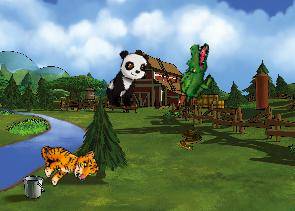crocodile: (173, 41, 218, 106)
panda: (102, 46, 151, 113)
tiger: (35, 131, 101, 192)
